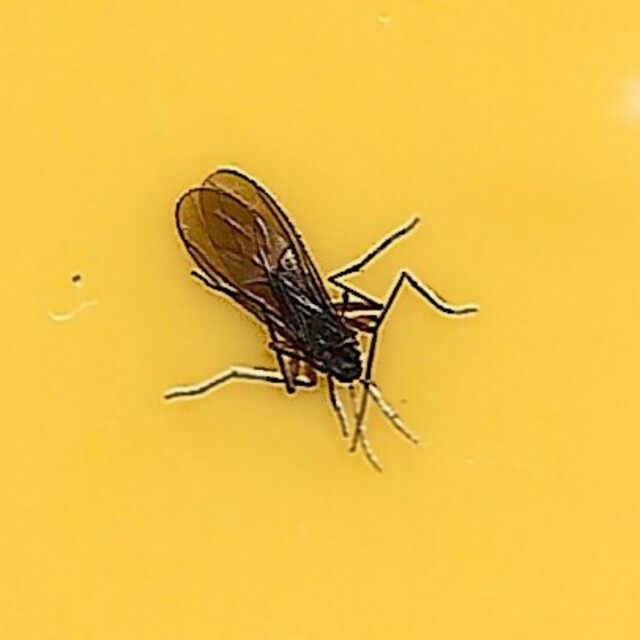Nematocera: (158, 161, 482, 479)
